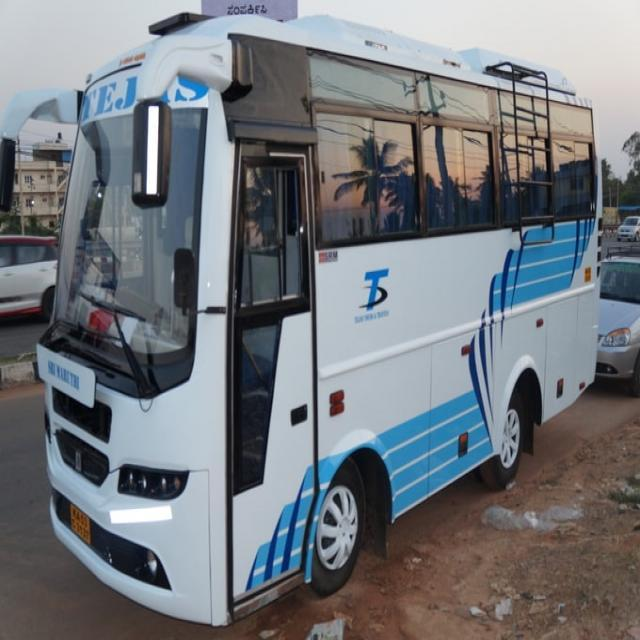bus: (34, 9, 603, 628)
